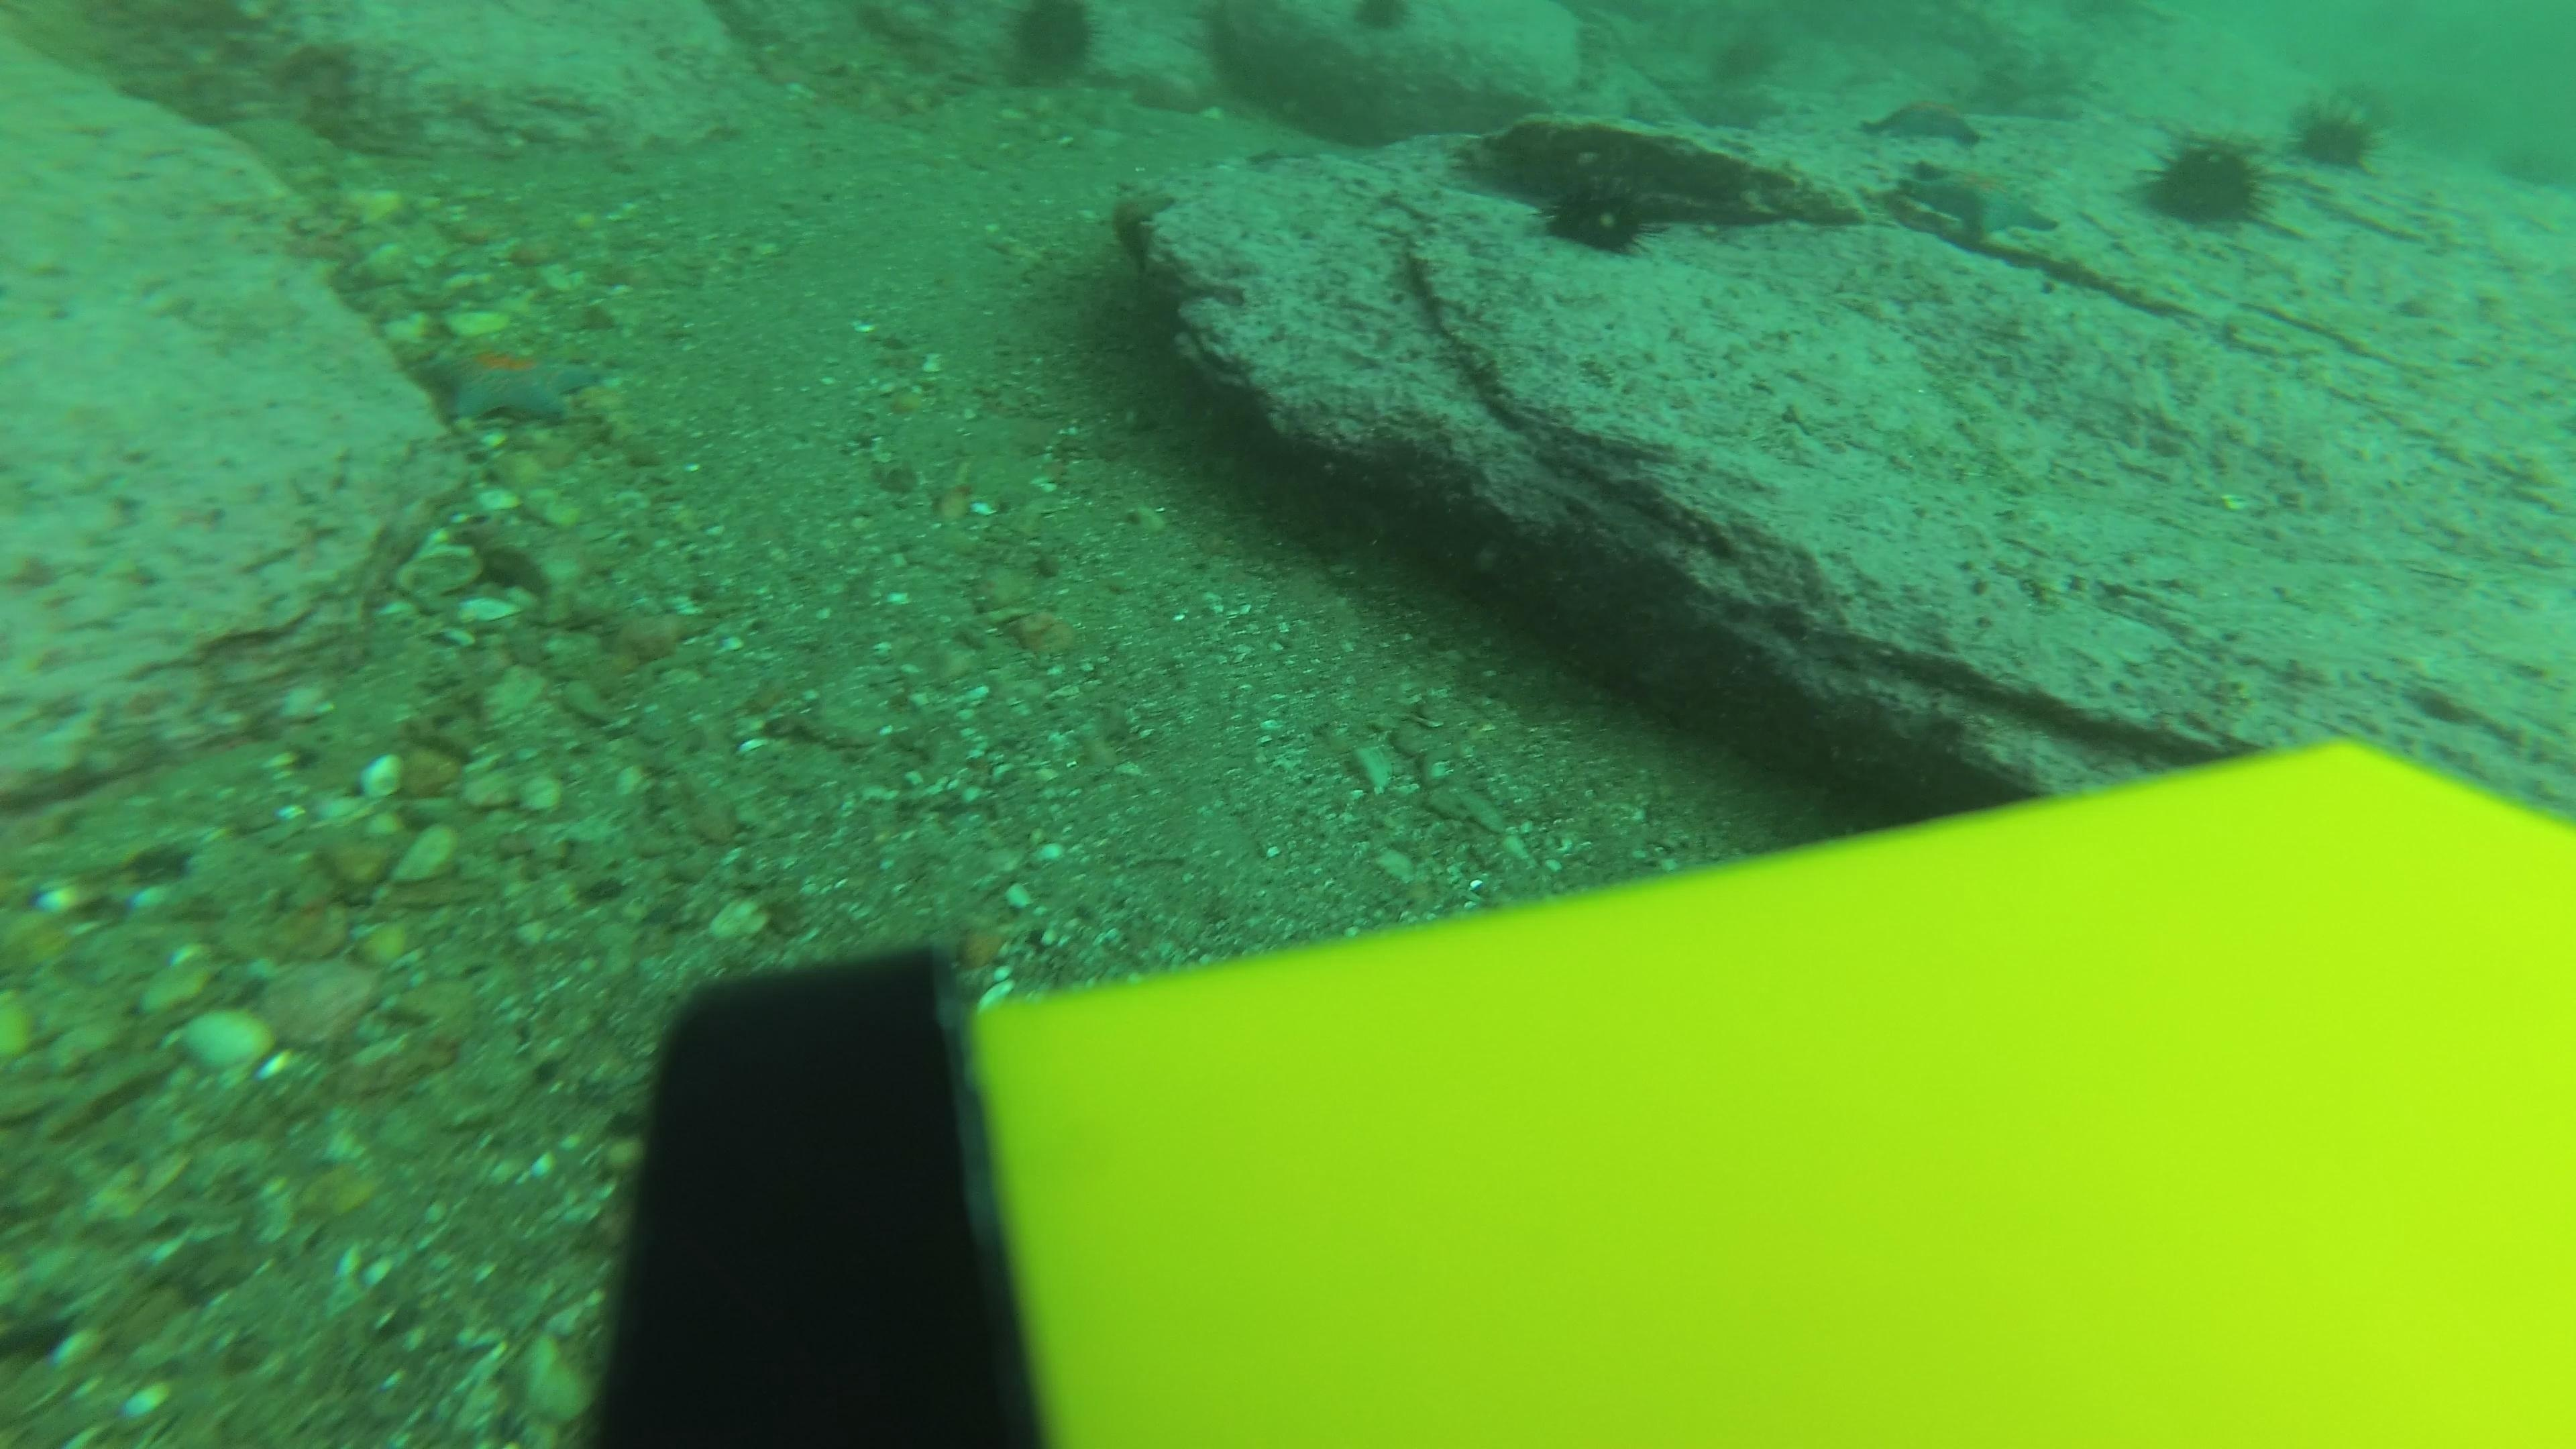echinus: (2134, 127, 2275, 235), (1532, 166, 1661, 262), (994, 0, 1108, 92), (2288, 92, 2385, 177), (1355, 4, 1421, 46)
starfish: (407, 324, 609, 430), (1893, 159, 2065, 244), (1854, 87, 1992, 150)
